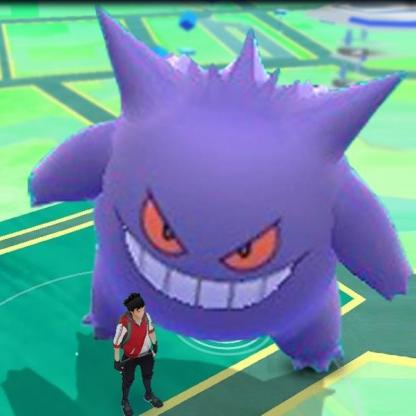Gengar: (25, 17, 379, 363)
